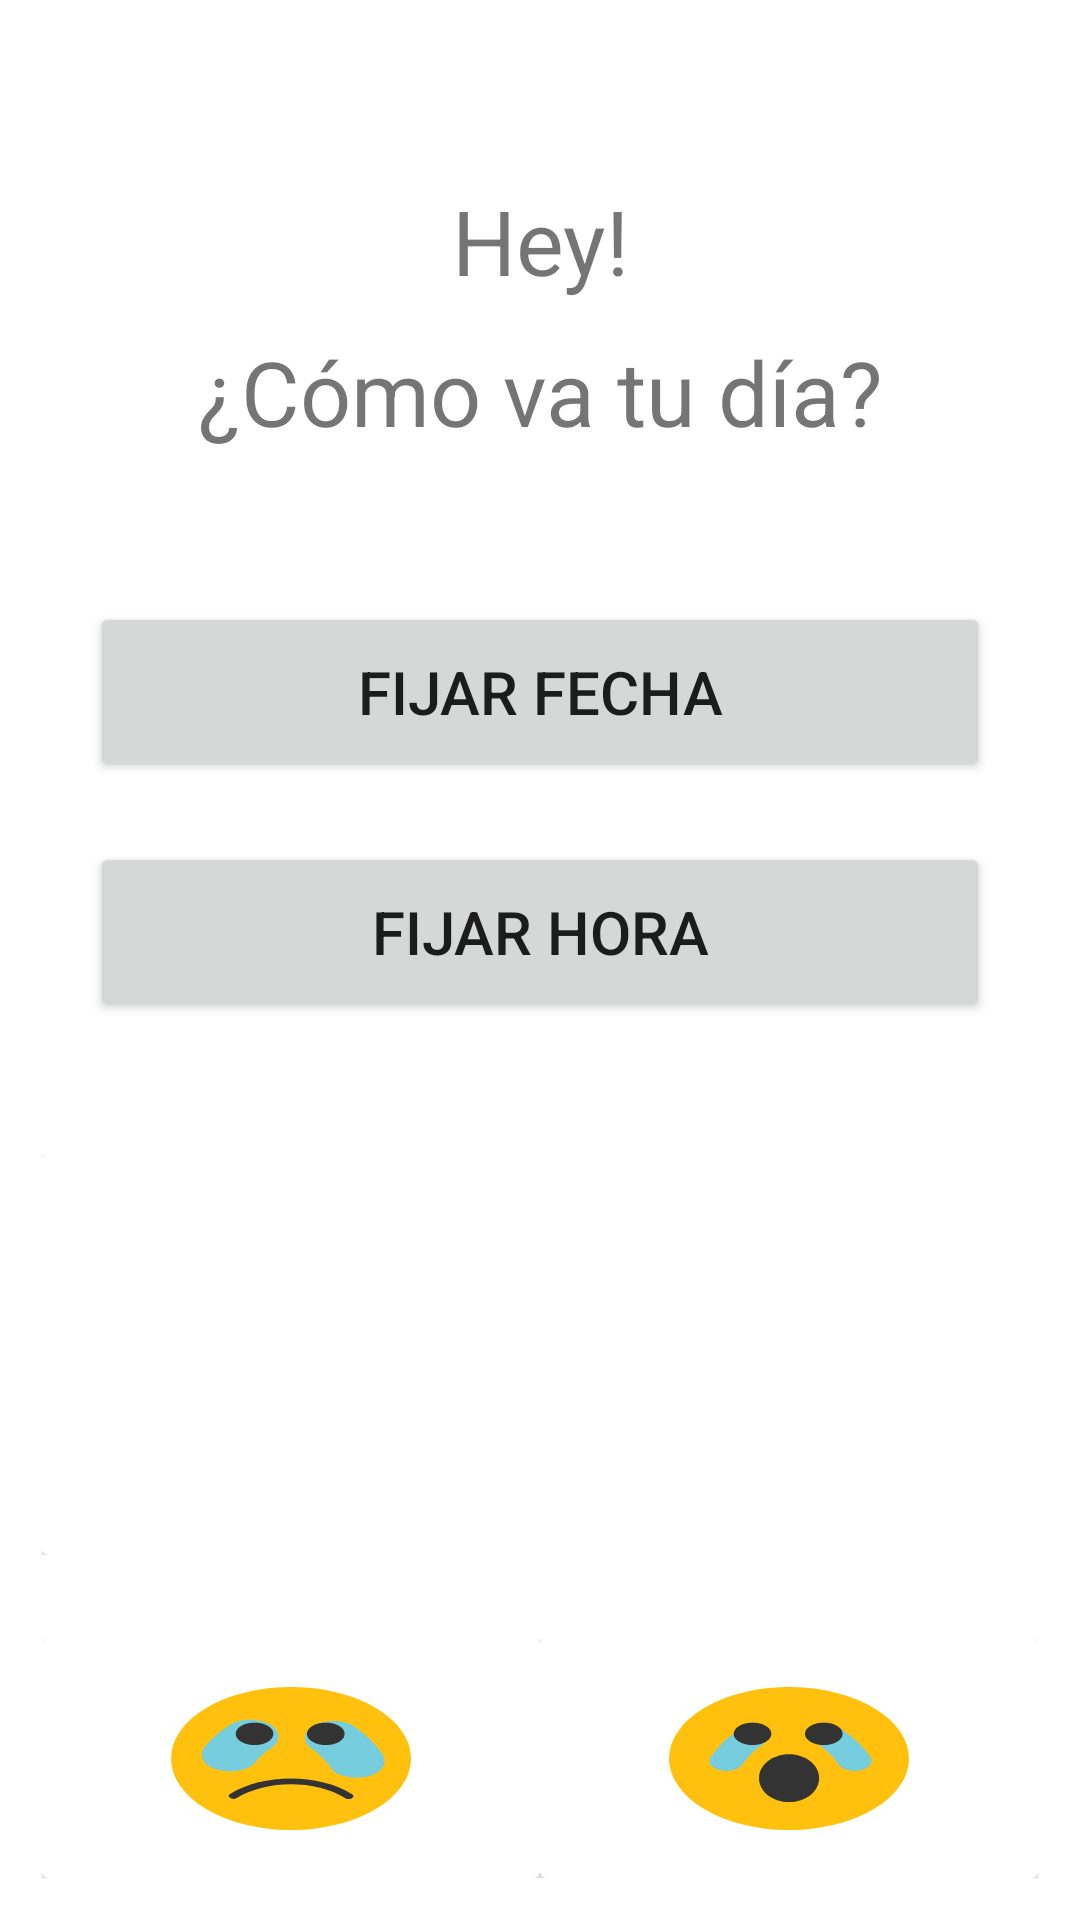

Locate icon controls on the screen. Image size 1080px×1920px, boxes as (x1, y1, x2, y2).
bad: (171, 1687, 411, 1830)
horrible: (669, 1687, 909, 1830)
